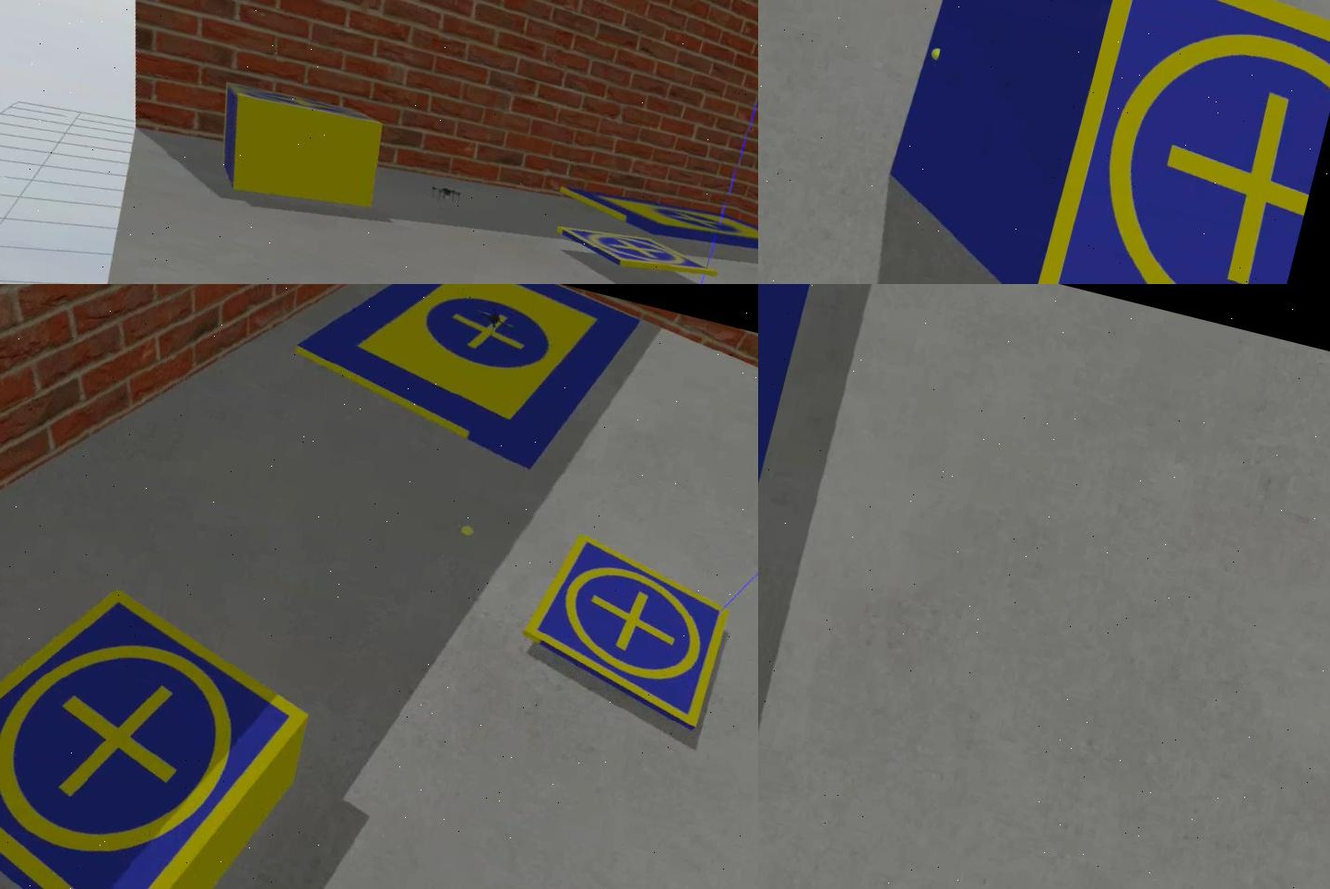large_base: (279, 284, 645, 483), (546, 168, 756, 282)
small_base: (0, 542, 327, 889), (1017, 1, 1328, 284), (505, 531, 745, 738), (550, 214, 719, 284), (218, 73, 386, 141)
